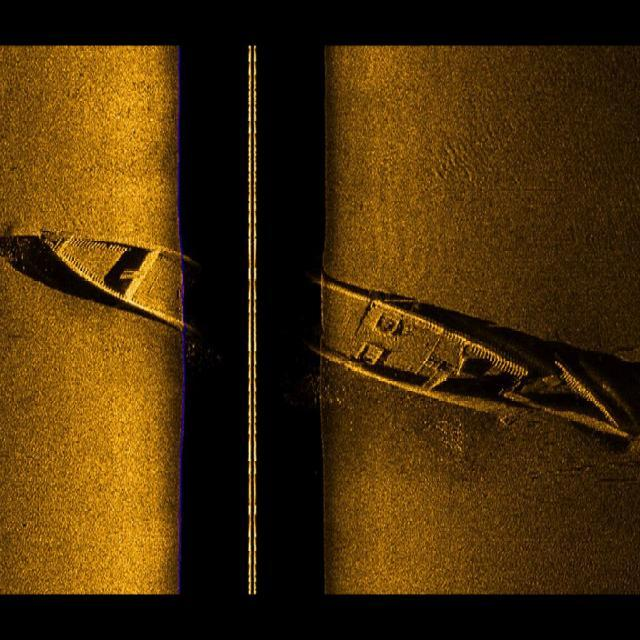shipwreck: (32, 213, 630, 452)
